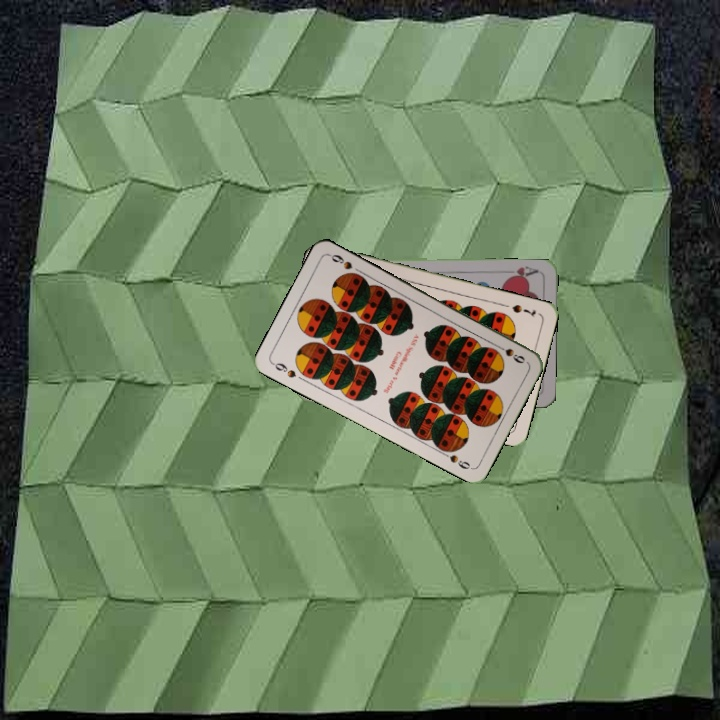HA: (501, 262, 541, 282)
S7: (508, 300, 538, 320)
S9: (491, 340, 528, 366), (268, 358, 299, 381)
